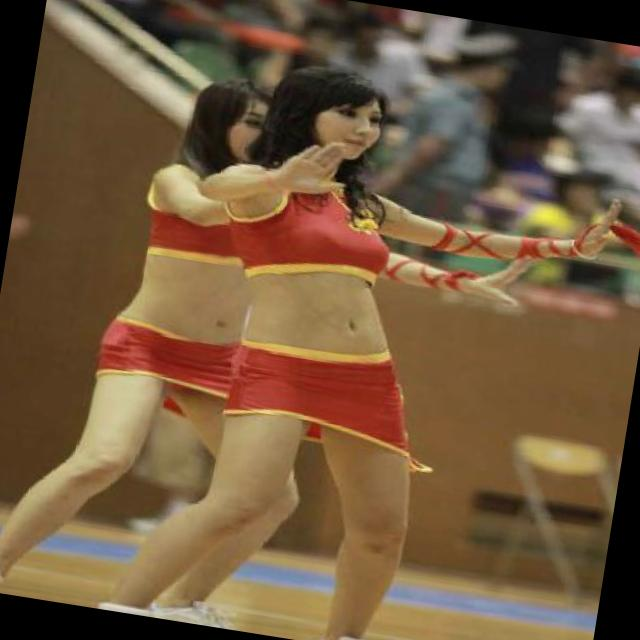Person: (85, 38, 579, 640)
